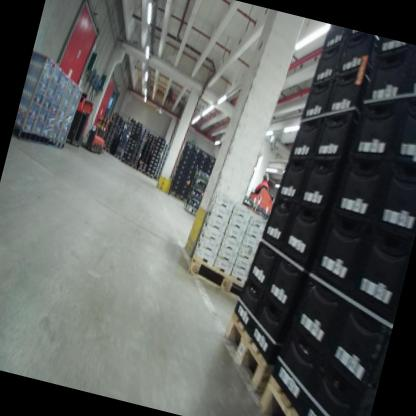pallet: (207, 313, 289, 413), (250, 363, 376, 416), (180, 246, 256, 301), (100, 143, 113, 156), (112, 150, 124, 163), (175, 194, 188, 205), (127, 160, 139, 171), (166, 189, 179, 199), (119, 157, 131, 167), (151, 175, 162, 185), (135, 166, 147, 174), (144, 170, 154, 179)
pallet_truck: (62, 87, 97, 153), (240, 174, 280, 217), (82, 109, 106, 155), (93, 107, 115, 155), (94, 114, 111, 158)
